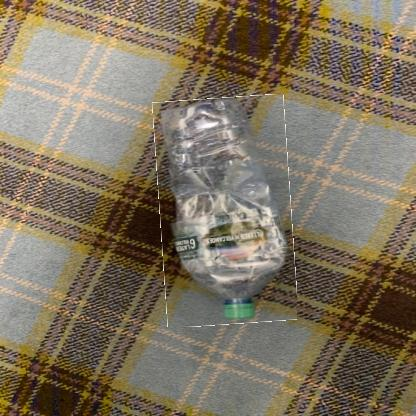plastic-bottles: (157, 97, 296, 327)
